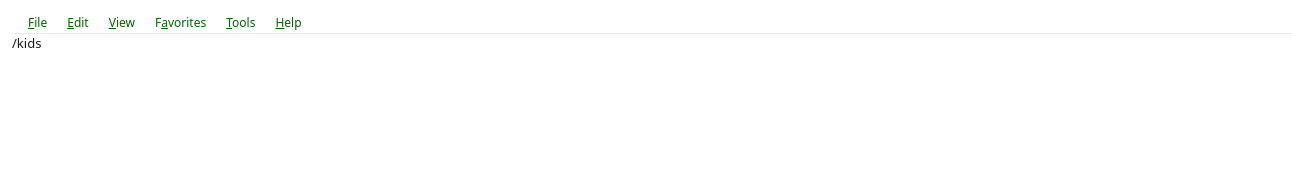
Test: Kids menu bar › Read Aloud and Find are disabled on the Kids home
The width and height of the screenshot is (1292, 172).
Click the button "Tools" at [241, 22], box [216,13,265,32]
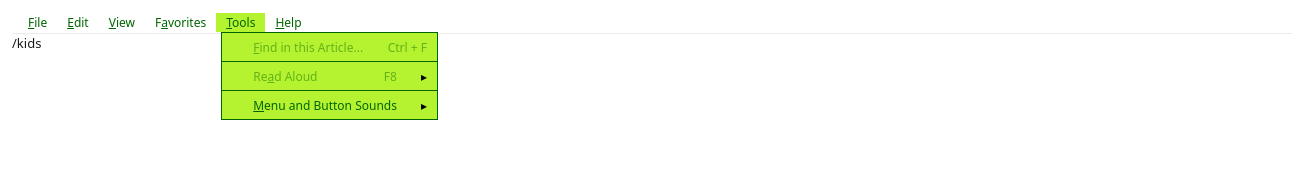
Expected: the menu item "Read Aloud F8 ▸" is disabled, [222,66,437,86]
Expected: the menu item "Find in this Article... Ctrl + F" is disabled, [222,37,437,57]
